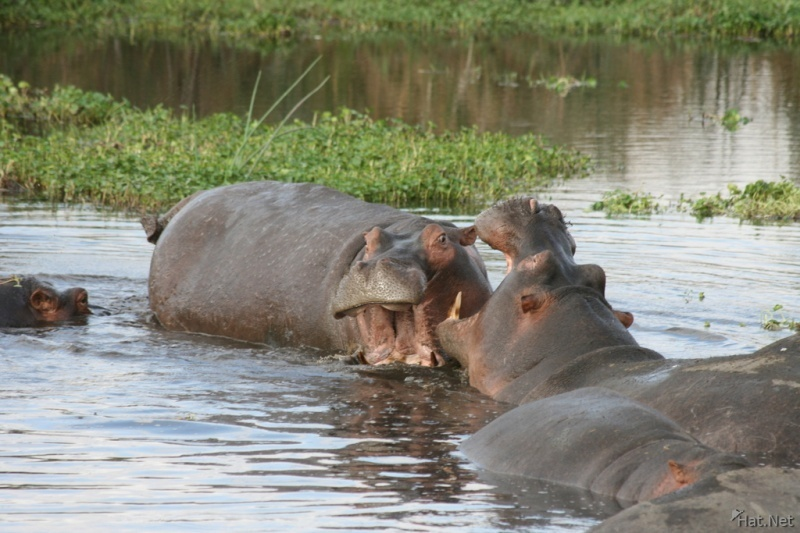hipopotamo: (442, 197, 798, 413), (141, 171, 486, 385), (443, 378, 763, 510), (1, 258, 114, 373)
